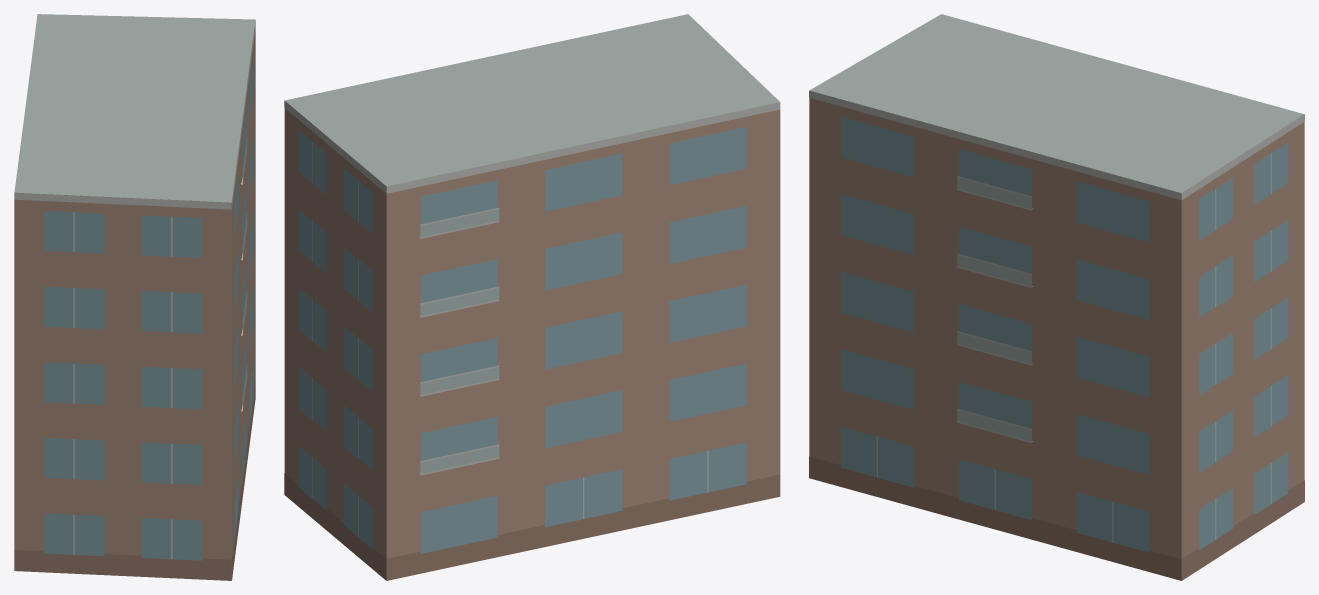
The model's file is survey-upis-32893489.glb.
The picture shows the model from 3 angles, left to right: view 1: azimuth 30°, elevation 25°; view 2: azimuth 150°, elevation 25°; view 3: azimuth 270°, elevation 25°; orthographic projection. The views are drawn at different scales.
Visible parts, largest first — view 1: survey-upis-32893489.tmp; view 2: survey-upis-32893489.tmp; view 3: survey-upis-32893489.tmp.
Part boxes in pixels (x1,y1,x2,y2): survey-upis-32893489.tmp: [14, 14, 255, 580]; survey-upis-32893489.tmp: [284, 14, 780, 580]; survey-upis-32893489.tmp: [809, 14, 1304, 580].
Size of the model in its own units: 13.1 by 13.2 by 15.3.
